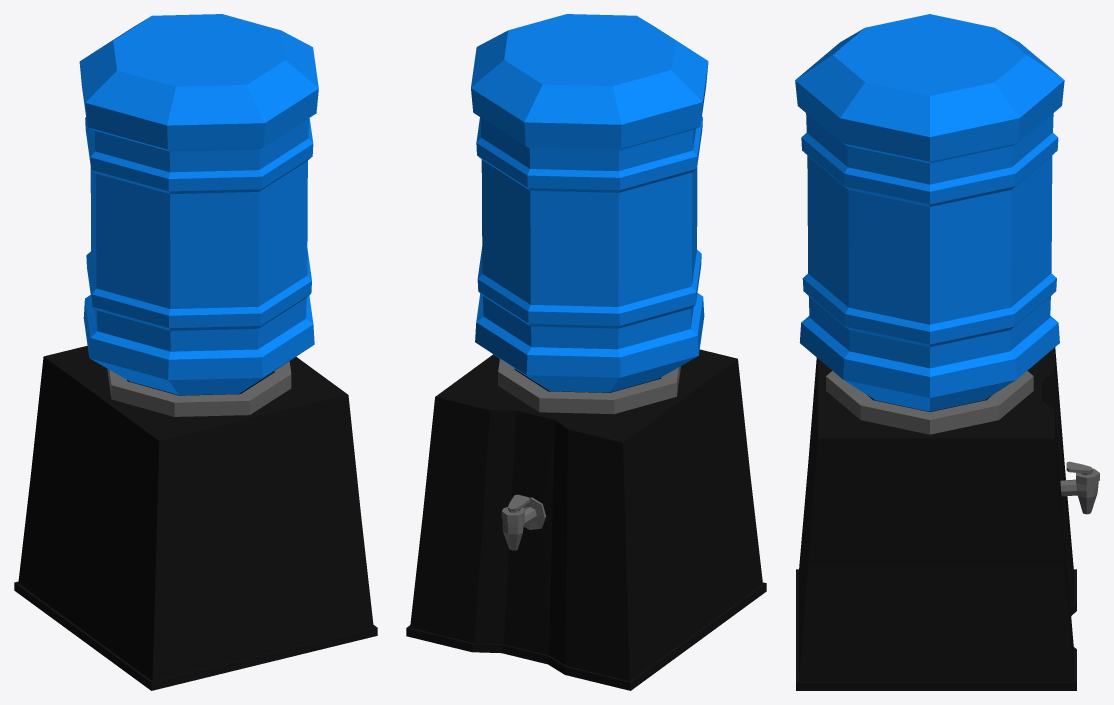
File: AguaTESTE.fbx
3 renders of one model, left to right at view 1: azimuth 30°, elevation 25°; view 2: azimuth 150°, elevation 25°; view 3: azimuth 270°, elevation 25°, orthographic. The views are drawn at different scales.
Visible parts, largest first — view 1: Cube; view 2: Cube; view 3: Cube.
Boxes of the visible parts, bbox=[...] form: Cube: bbox=[14, 14, 377, 690]; Cube: bbox=[406, 14, 766, 690]; Cube: bbox=[795, 14, 1099, 690].
Size of the model in its own units: 2.06 by 2.33 by 4.88.
